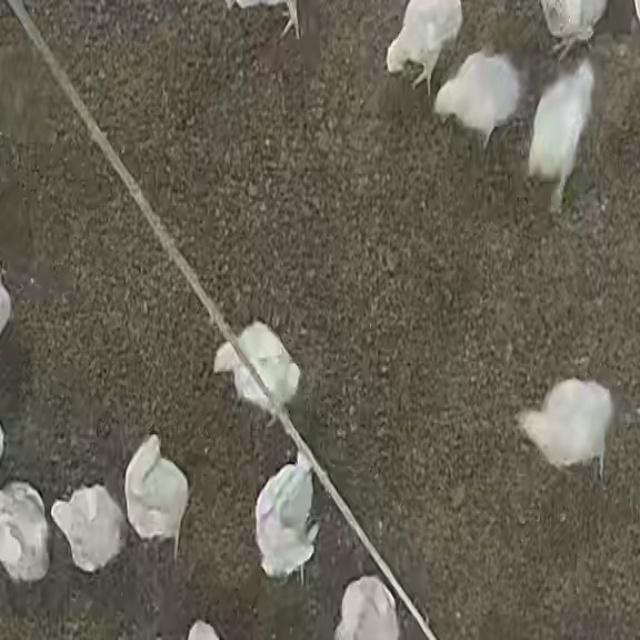chicken: (526, 56, 595, 212), (516, 377, 614, 479), (251, 451, 325, 584), (433, 49, 526, 154), (213, 317, 298, 418), (123, 433, 189, 548), (51, 483, 128, 576), (387, 0, 466, 84), (0, 481, 50, 583), (538, 0, 612, 62), (333, 577, 402, 640)
